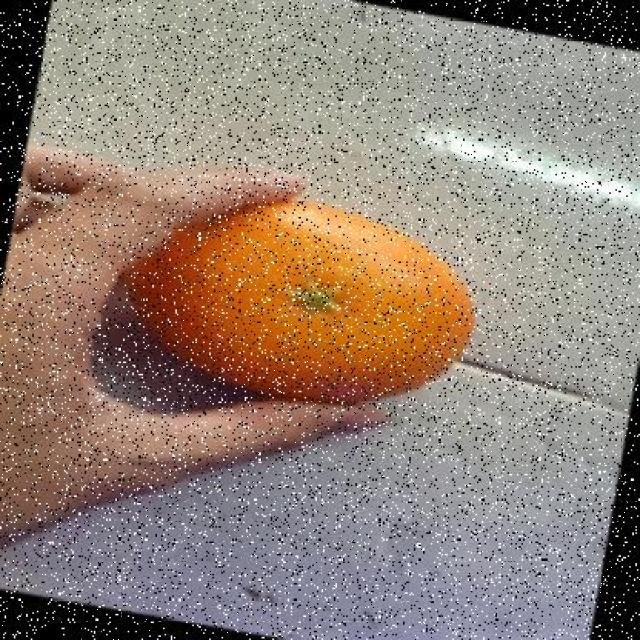Orange: (123, 193, 477, 404)
